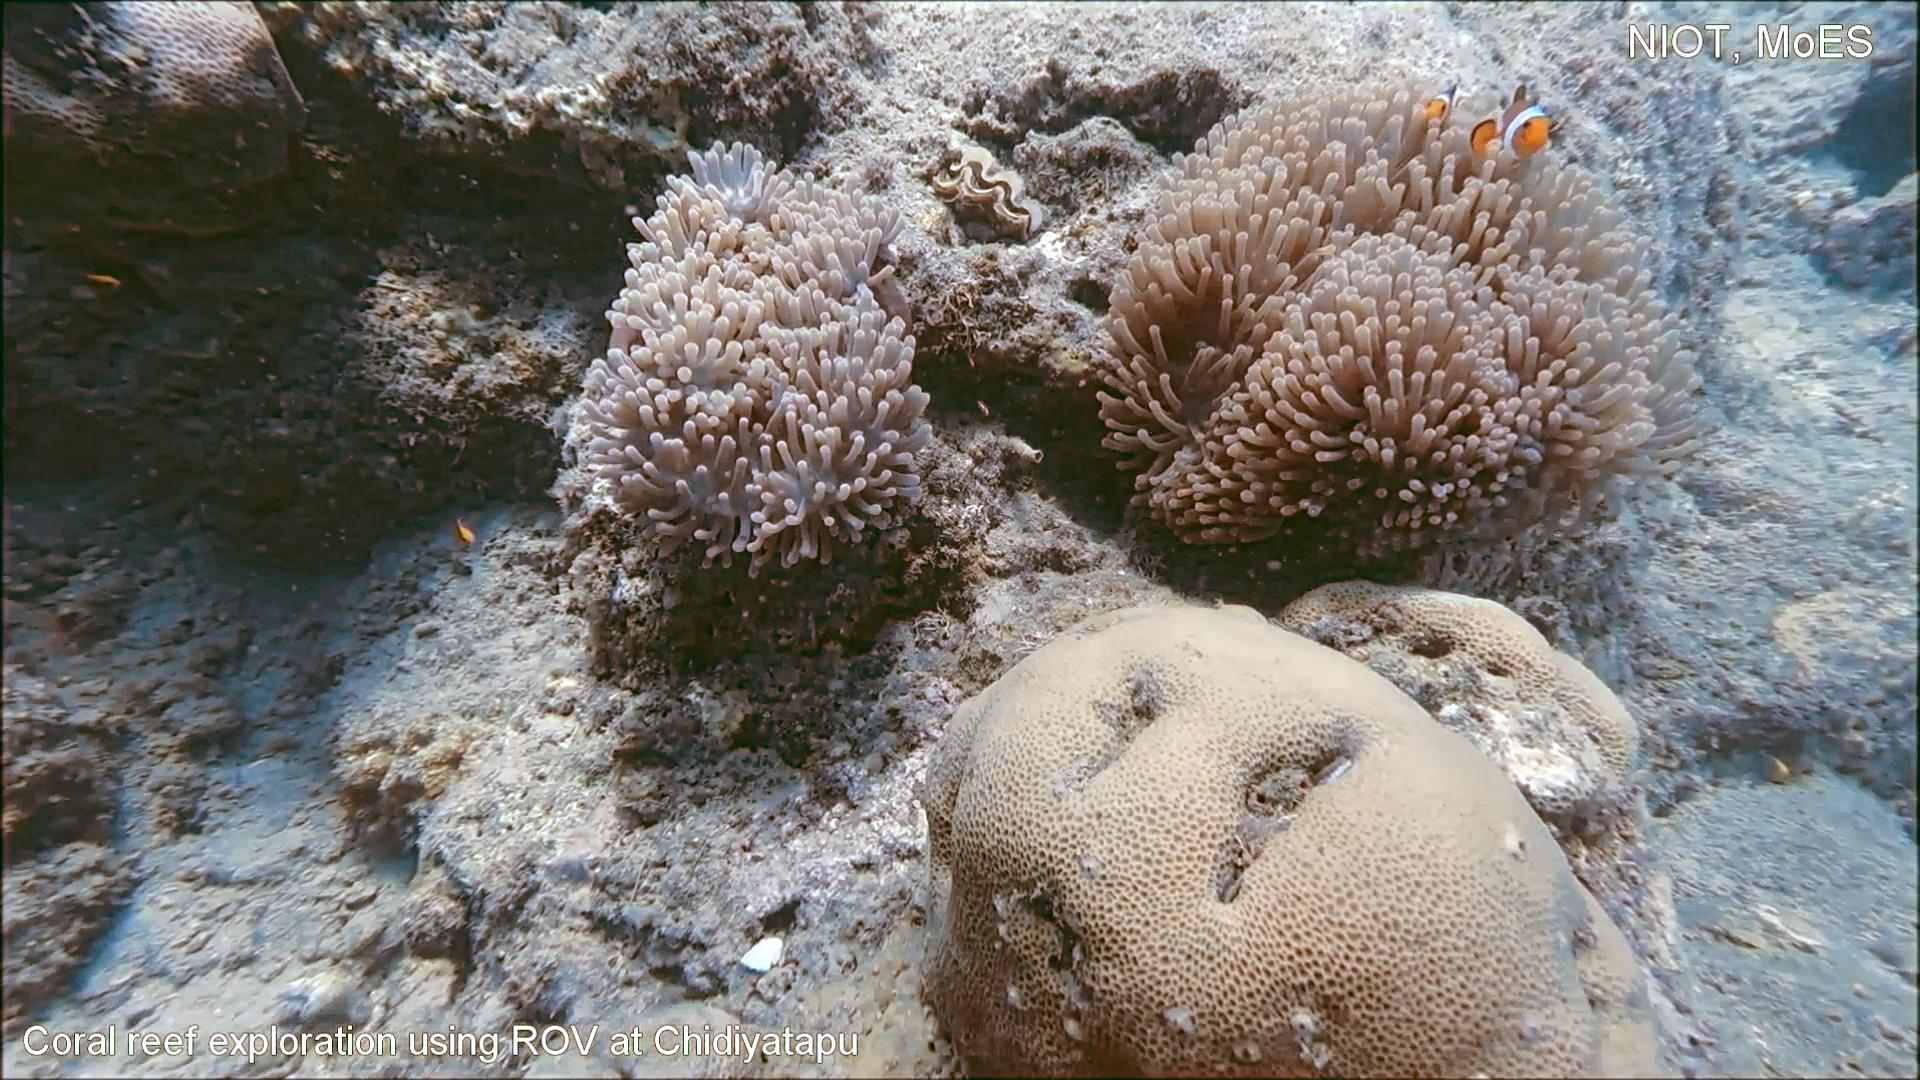Macrodactyla doreensis-Long tentacle Anemone: (1087, 65, 1724, 578), (553, 135, 943, 583)
Tridacna Clam: (916, 136, 1048, 244)
